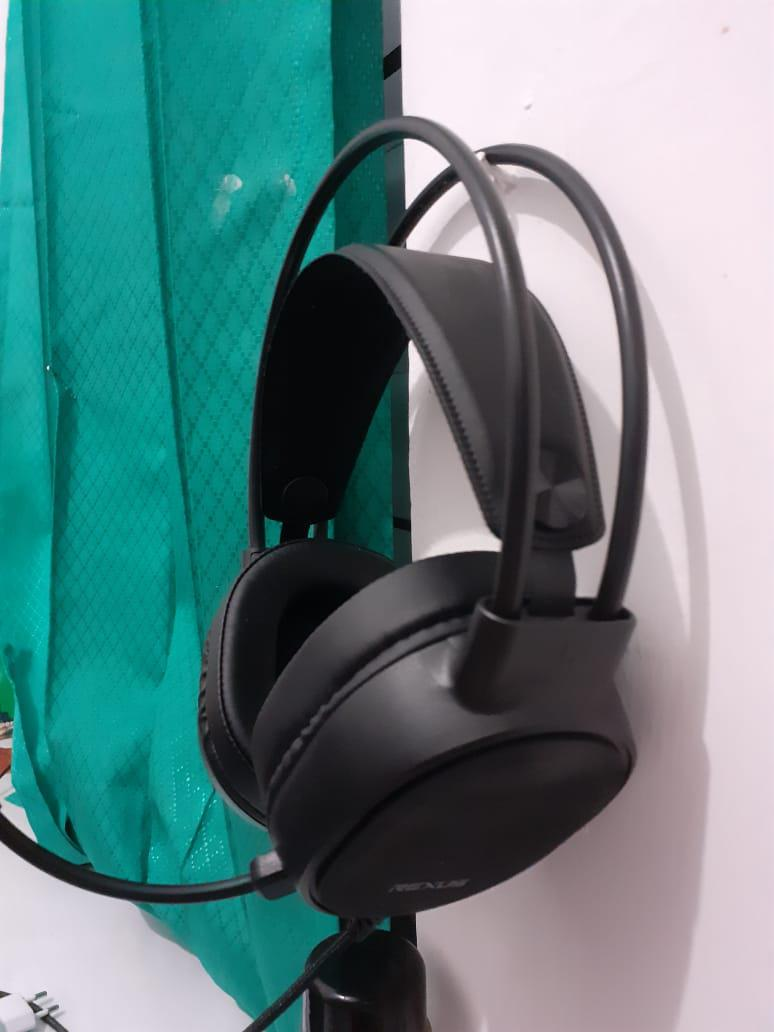Headset: (2, 91, 668, 972)
